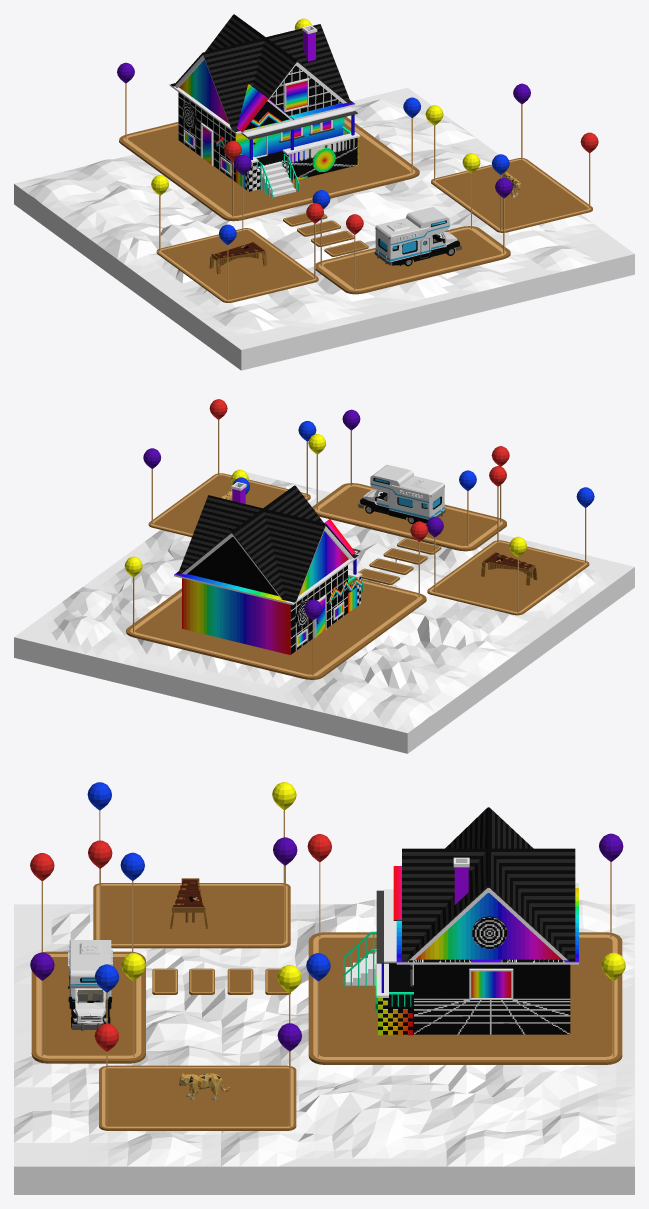
The picture shows the model from 3 angles, top to bottom: view 1: azimuth 30°, elevation 25°; view 2: azimuth 150°, elevation 25°; view 3: azimuth 270°, elevation 25°; orthographic projection. The views are drawn at different scales.
Parts seen in each view (by area): view 1: Cube.013, Cube.1320, VEHICLES_CAMPER, OBJRANDOM_MARIMBA; view 2: Cube.013, Cube.1320, VEHICLES_CAMPER, OBJRANDOM_MARIMBA; view 3: Cube.013, Cube.1320, VEHICLES_CAMPER, OBJRANDOM_MARIMBA, ANIMAL_JAGUAR.
Boxes of the visible parts, left/top/right/bottom form: Cube.013: left=14, top=18, right=634, bottom=370; Cube.1320: left=169, top=14, right=360, bottom=198; VEHICLES_CAMPER: left=374, top=207, right=461, bottom=266; OBJRANDOM_MARIMBA: left=209, top=241, right=266, bottom=273; Cube.013: left=14, top=399, right=634, bottom=753; Cube.1320: left=174, top=482, right=363, bottom=654; VEHICLES_CAMPER: left=358, top=464, right=445, bottom=524; OBJRANDOM_MARIMBA: left=481, top=551, right=537, bottom=585; Cube.013: left=14, top=782, right=634, bottom=1194; Cube.1320: left=343, top=807, right=578, bottom=1035; VEHICLES_CAMPER: left=68, top=940, right=112, bottom=1030; OBJRANDOM_MARIMBA: left=170, top=878, right=207, bottom=928; ANIMAL_JAGUAR: left=179, top=1073, right=230, bottom=1100.
Size of the model in its own units: 4000 by 1688 by 4000.
Materials: 39 (3 with a texture image).
